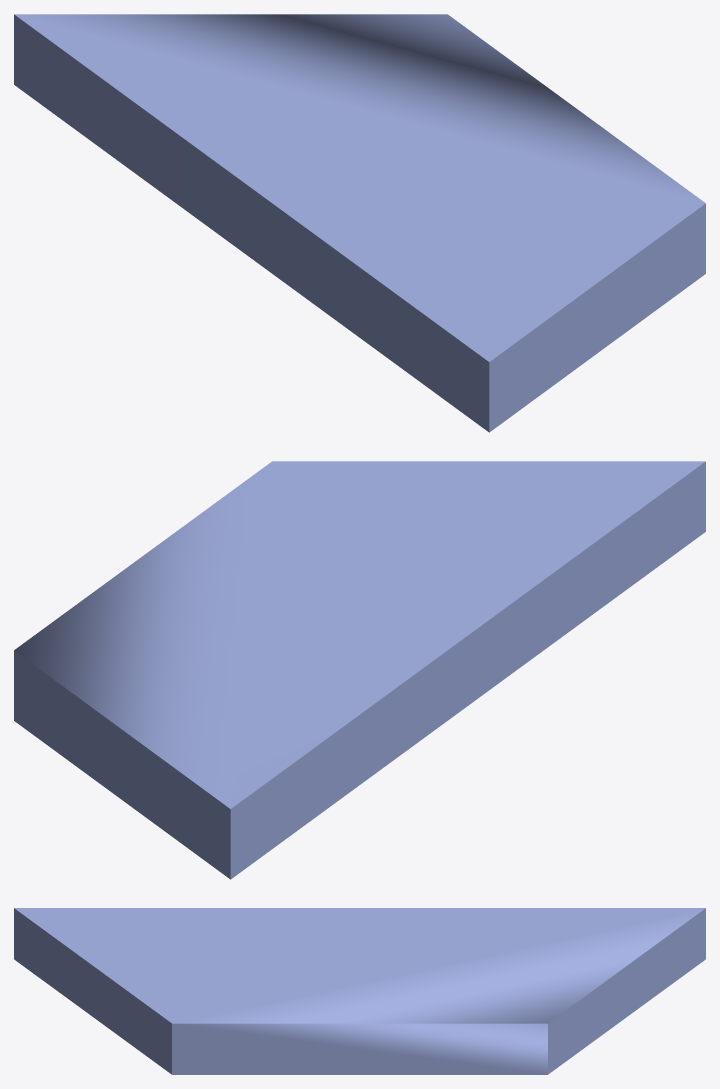
Rendered from chairCollBottom1.fbx.
3 views of the same model, one above another, from view 1: azimuth 30°, elevation 25°; view 2: azimuth 150°, elevation 25°; view 3: azimuth 270°, elevation 25° (orthographic). The views are drawn at different scales.
Parts seen in each view (by area): view 1: chari1; view 2: chari1; view 3: chari1.
Part boxes in pixels (box(x1,y1,x2,y2)): chari1: box(14, 14, 705, 432); chari1: box(14, 461, 705, 879); chari1: box(14, 908, 705, 1074).
Bounding box in the file's own units: 1.43 × 0.2963 × 3.62.
